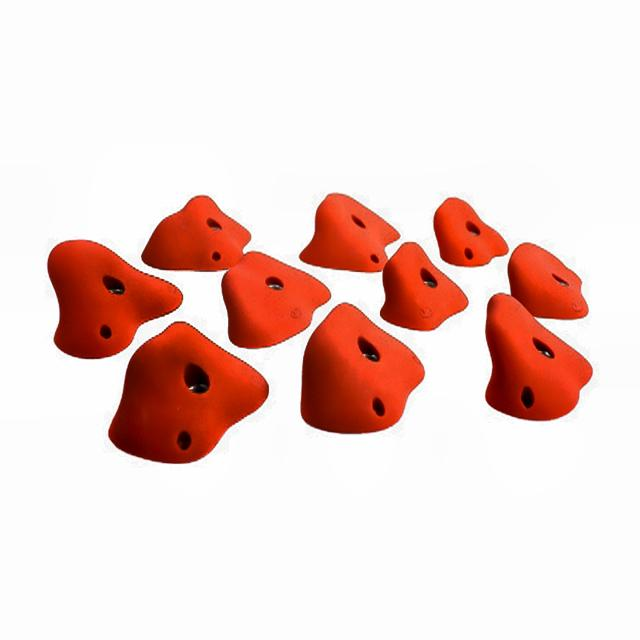Hold: (106, 324, 271, 466), (46, 241, 188, 353), (299, 304, 424, 431), (486, 293, 593, 420), (224, 252, 330, 347), (140, 195, 252, 272), (382, 243, 470, 334), (298, 193, 394, 273), (433, 190, 517, 267), (510, 240, 590, 320)
